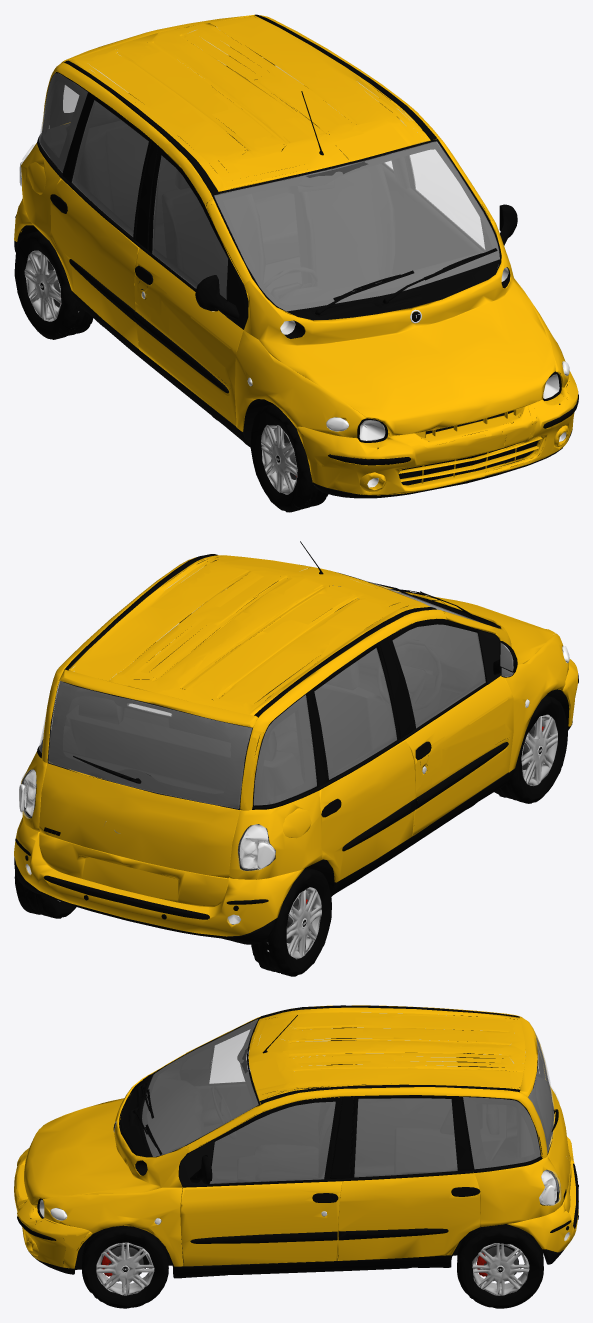
Rendered from gt_mul_mid.glb.
3 renders of one model, top to bottom at view 1: azimuth 30°, elevation 25°; view 2: azimuth 150°, elevation 25°; view 3: azimuth 270°, elevation 25°, orthographic. The views are drawn at different scales.
Parts seen in each view (by area): view 1: Object_7, Object_20, Object_8, Object_9, Object_11, Object_10, Object_12, WHEEL_RR_TIRE, WHEEL_RF_TIRE, WHEEL_RF_RIM, WHEEL_RR_RIM, Object_21 (+2 smaller); view 2: Object_7, Object_8, Object_20, Object_9, Object_10, Object_21, Object_12, WHEEL_RR_TIRE, WHEEL_RF_TIRE, Object_19, WHEEL_RF_RIM, Object_11 (+5 smaller); view 3: Object_8, Object_7, Object_20, Object_9, Object_12, Object_11, Object_10, WHEEL_LR_TIRE, WHEEL_LF_TIRE, Object_21, WHEEL_LF_RIM, WHEEL_LR_RIM (+3 smaller).
Boxes of the visible parts, <box> form: Object_7: <box>14,14,571,495</box>; Object_20: <box>39,30,499,310</box>; Object_8: <box>44,15,578,495</box>; Object_9: <box>42,48,488,385</box>; Object_11: <box>17,91,578,498</box>; Object_10: <box>14,14,499,329</box>; Object_12: <box>69,52,492,447</box>; WHEEL_RR_TIRE: <box>14,231,93,339</box>; WHEEL_RF_TIRE: <box>250,404,328,512</box>; WHEEL_RF_RIM: <box>261,425,297,494</box>; WHEEL_RR_RIM: <box>24,250,79,321</box>; Object_21: <box>40,26,261,171</box>; Object_7: <box>14,555,577,936</box>; Object_8: <box>39,555,574,907</box>; Object_20: <box>39,568,485,808</box>; Object_9: <box>47,560,492,841</box>; Object_10: <box>14,554,501,944</box>; Object_21: <box>40,681,315,808</box>; Object_12: <box>37,586,514,896</box>; WHEEL_RR_TIRE: <box>251,868,331,976</box>; WHEEL_RF_TIRE: <box>494,695,567,803</box>; Object_19: <box>20,704,275,924</box>; WHEEL_RF_RIM: <box>521,714,557,785</box>; Object_11: <box>217,541,578,924</box>; Object_8: <box>14,1005,571,1268</box>; Object_7: <box>14,1012,578,1268</box>; Object_20: <box>142,1019,554,1183</box>; Object_9: <box>146,1015,554,1264</box>; Object_12: <box>174,1027,542,1278</box>; Object_11: <box>17,1015,547,1277</box>; Object_10: <box>113,1005,578,1264</box>; WHEEL_LR_TIRE: <box>457,1224,543,1308</box>; WHEEL_LF_TIRE: <box>82,1225,168,1308</box>; Object_21: <box>463,1016,553,1168</box>; WHEEL_LF_RIM: <box>96,1242,154,1295</box>; WHEEL_LR_RIM: <box>472,1243,529,1295</box>.
Bounding box in the file's own units: 2.09 × 1.91 × 4.02.
